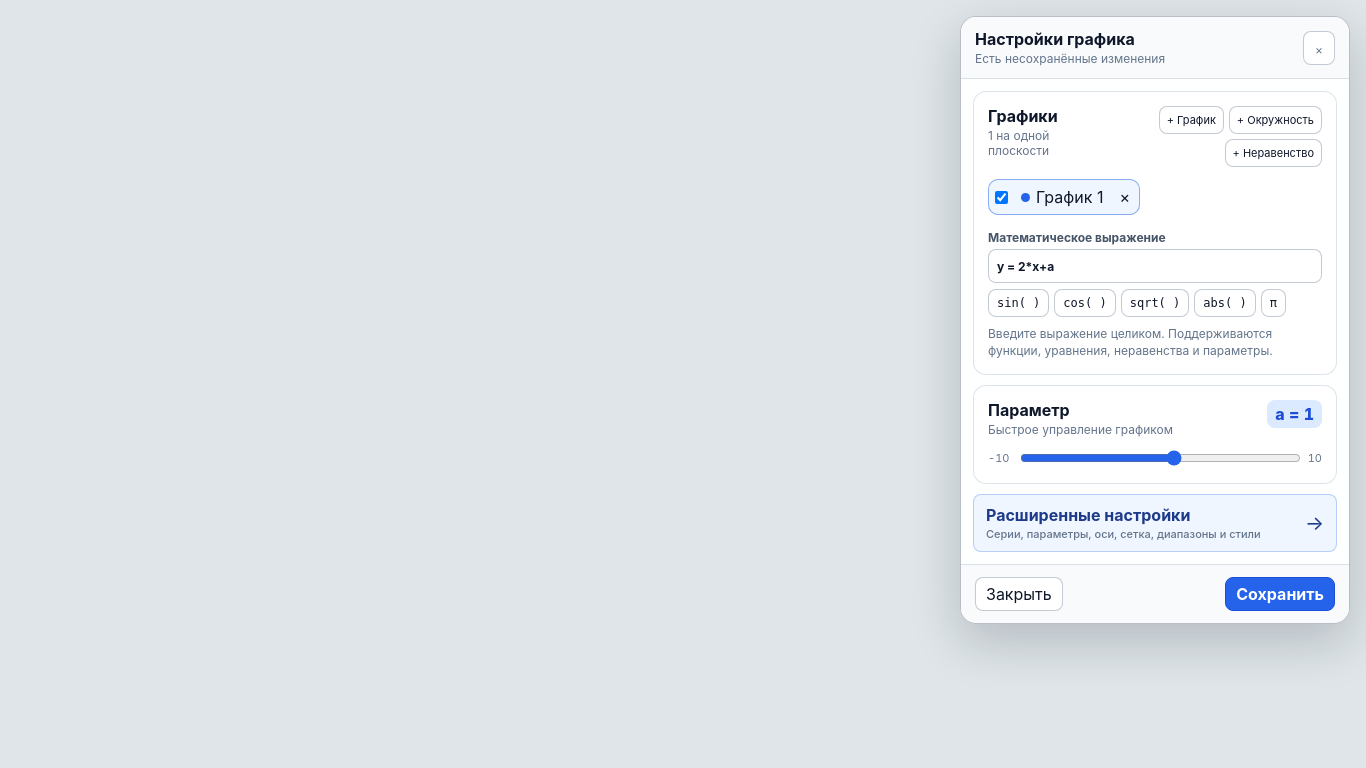
Test: CoordinatePlotEditorPanel accessibility and safety › gives icon-only buttons explicit accessible names
Expected: the button named "Закрыть редактор графика" is shown, [1303, 30, 1335, 64]
Click the button "Расширенные настройки" at (1155, 523), box [973, 494, 1337, 552]
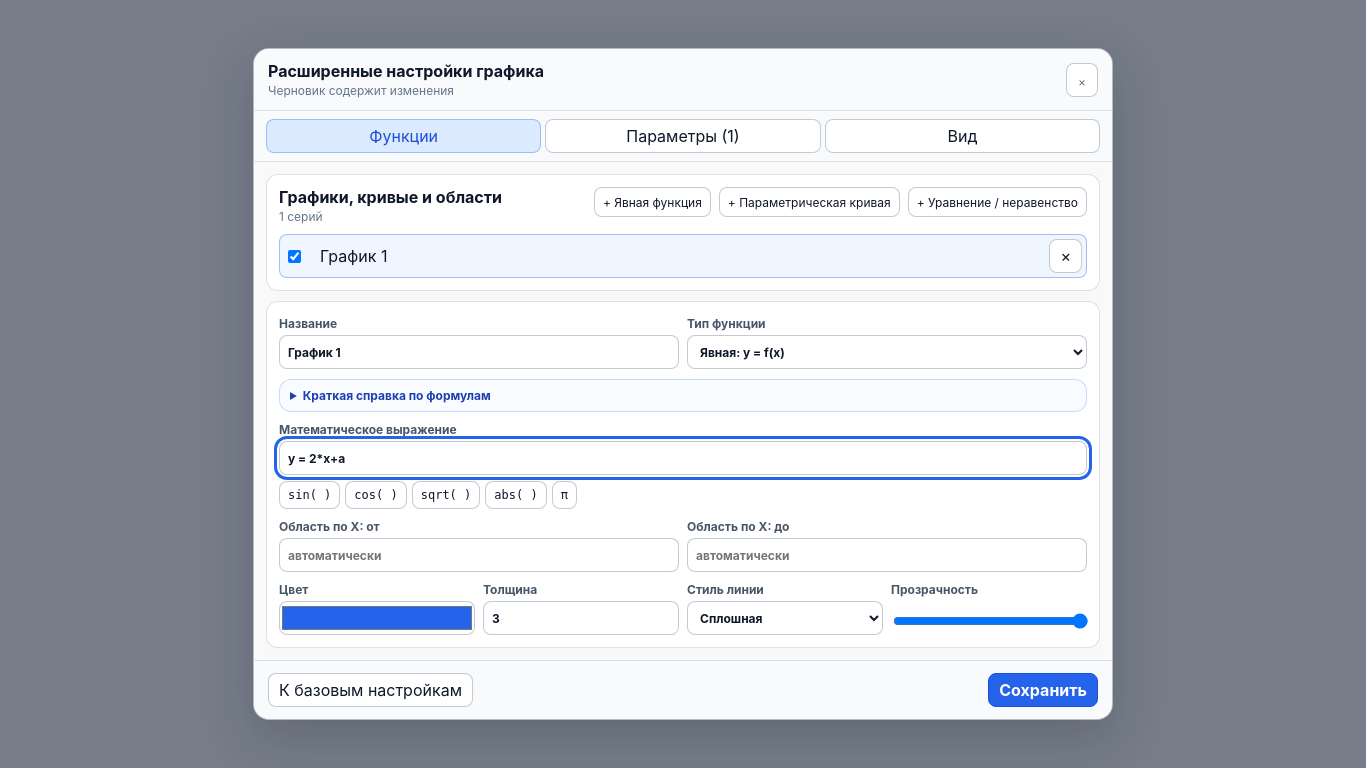
Expected: the button named "Удалить серию График 1" is shown, [1049, 239, 1082, 273]
Result: the button named "Закрыть расширенные настройки" is shown at [1066, 62, 1098, 96]
